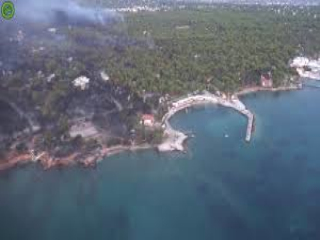smoke: (27, 1, 133, 34)
